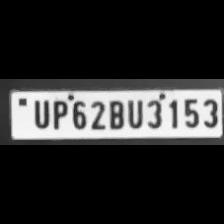1: (164, 96, 180, 130)
2: (89, 98, 106, 130)
3: (144, 96, 164, 130), (200, 96, 220, 128)
5: (180, 96, 198, 128)
6: (67, 98, 87, 130)
B: (105, 97, 124, 129)
P: (48, 98, 68, 130)
U: (30, 98, 50, 130), (126, 97, 144, 129)
